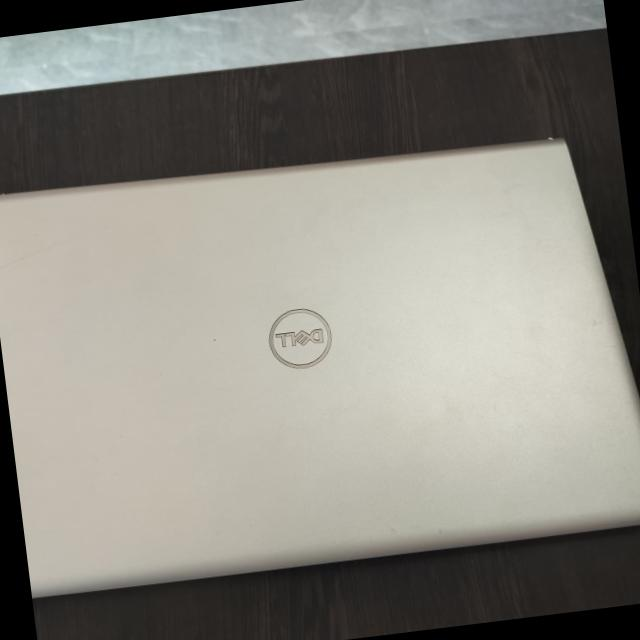laptop: (0, 110, 640, 623)
